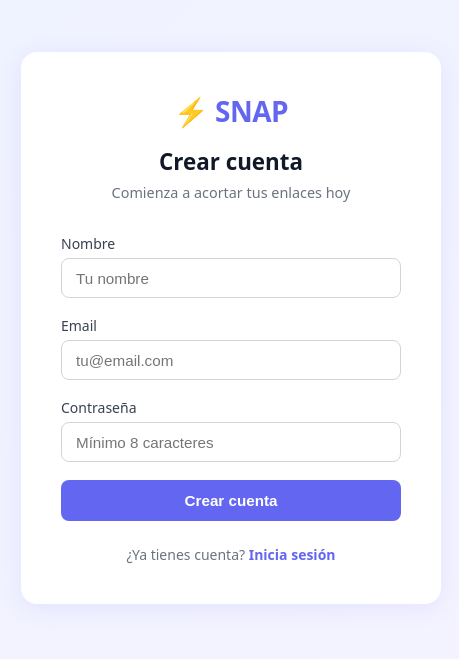
it: RegisterPage › muestra errores si se envía vacío
Click the button "Crear cuenta": (231, 500) [61,480,401,521]
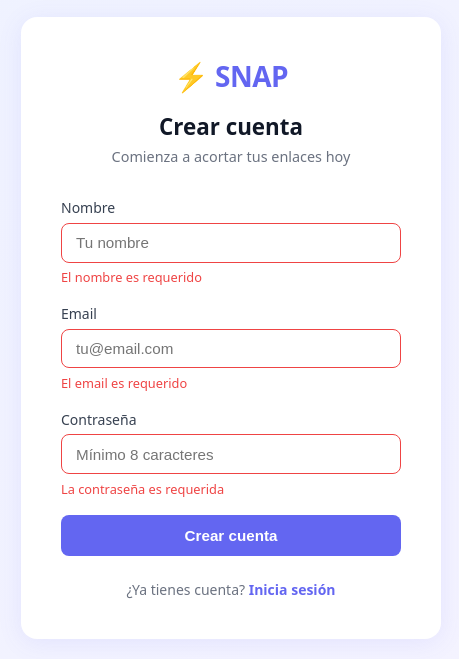
Result: the text "El nombre es requerido" is shown at [61,268,202,286]
Result: the text "El email es requerido" is shown at [61,374,187,392]
Result: the text "La contraseña es requerida" is shown at [61,480,224,498]
